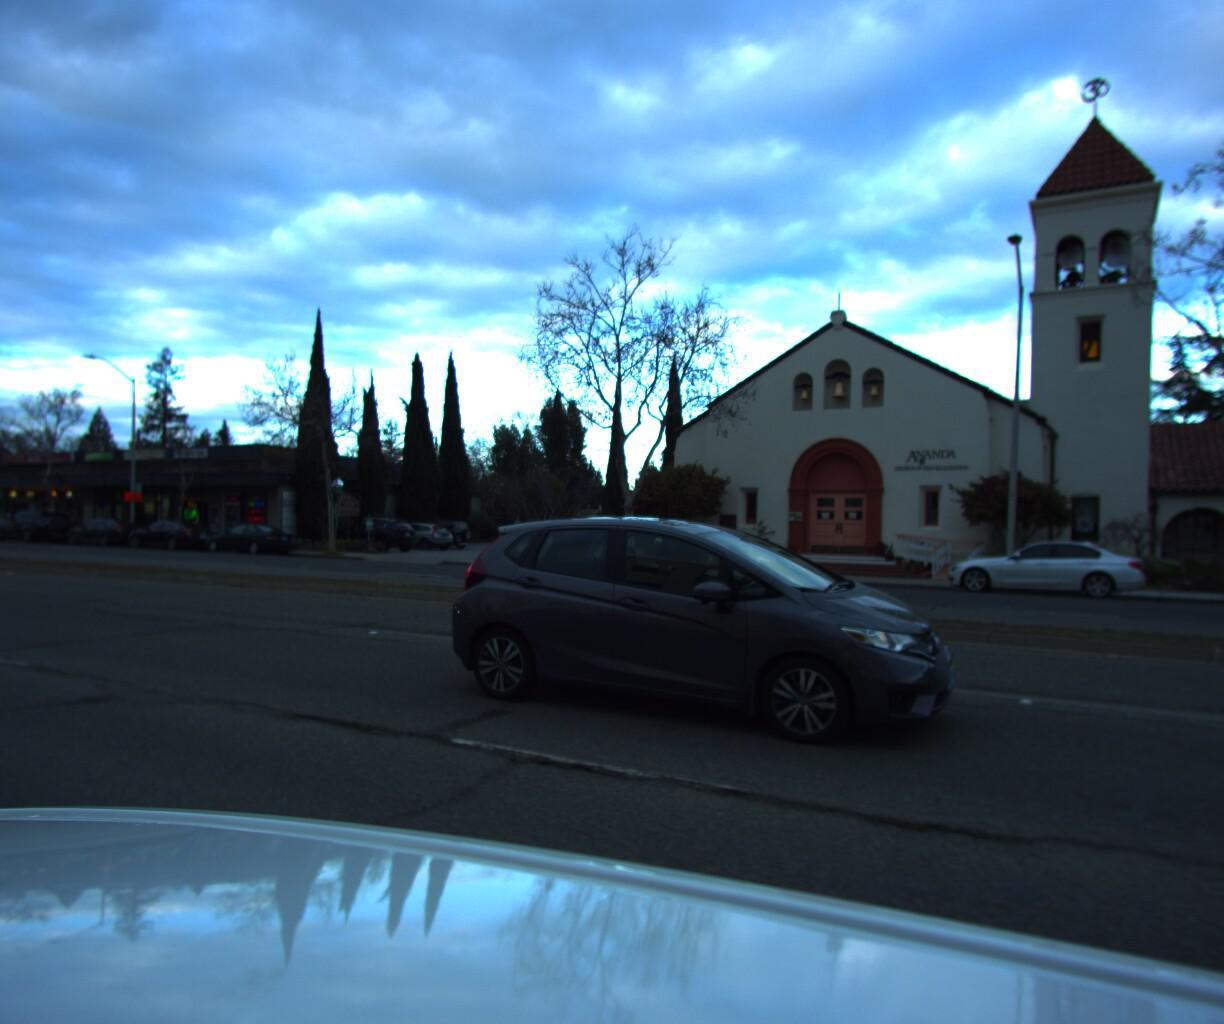car: (430, 502, 974, 771), (942, 532, 1152, 600), (324, 507, 423, 551), (205, 521, 301, 555), (125, 518, 218, 550), (61, 514, 148, 544), (381, 517, 457, 547), (406, 515, 477, 546)
